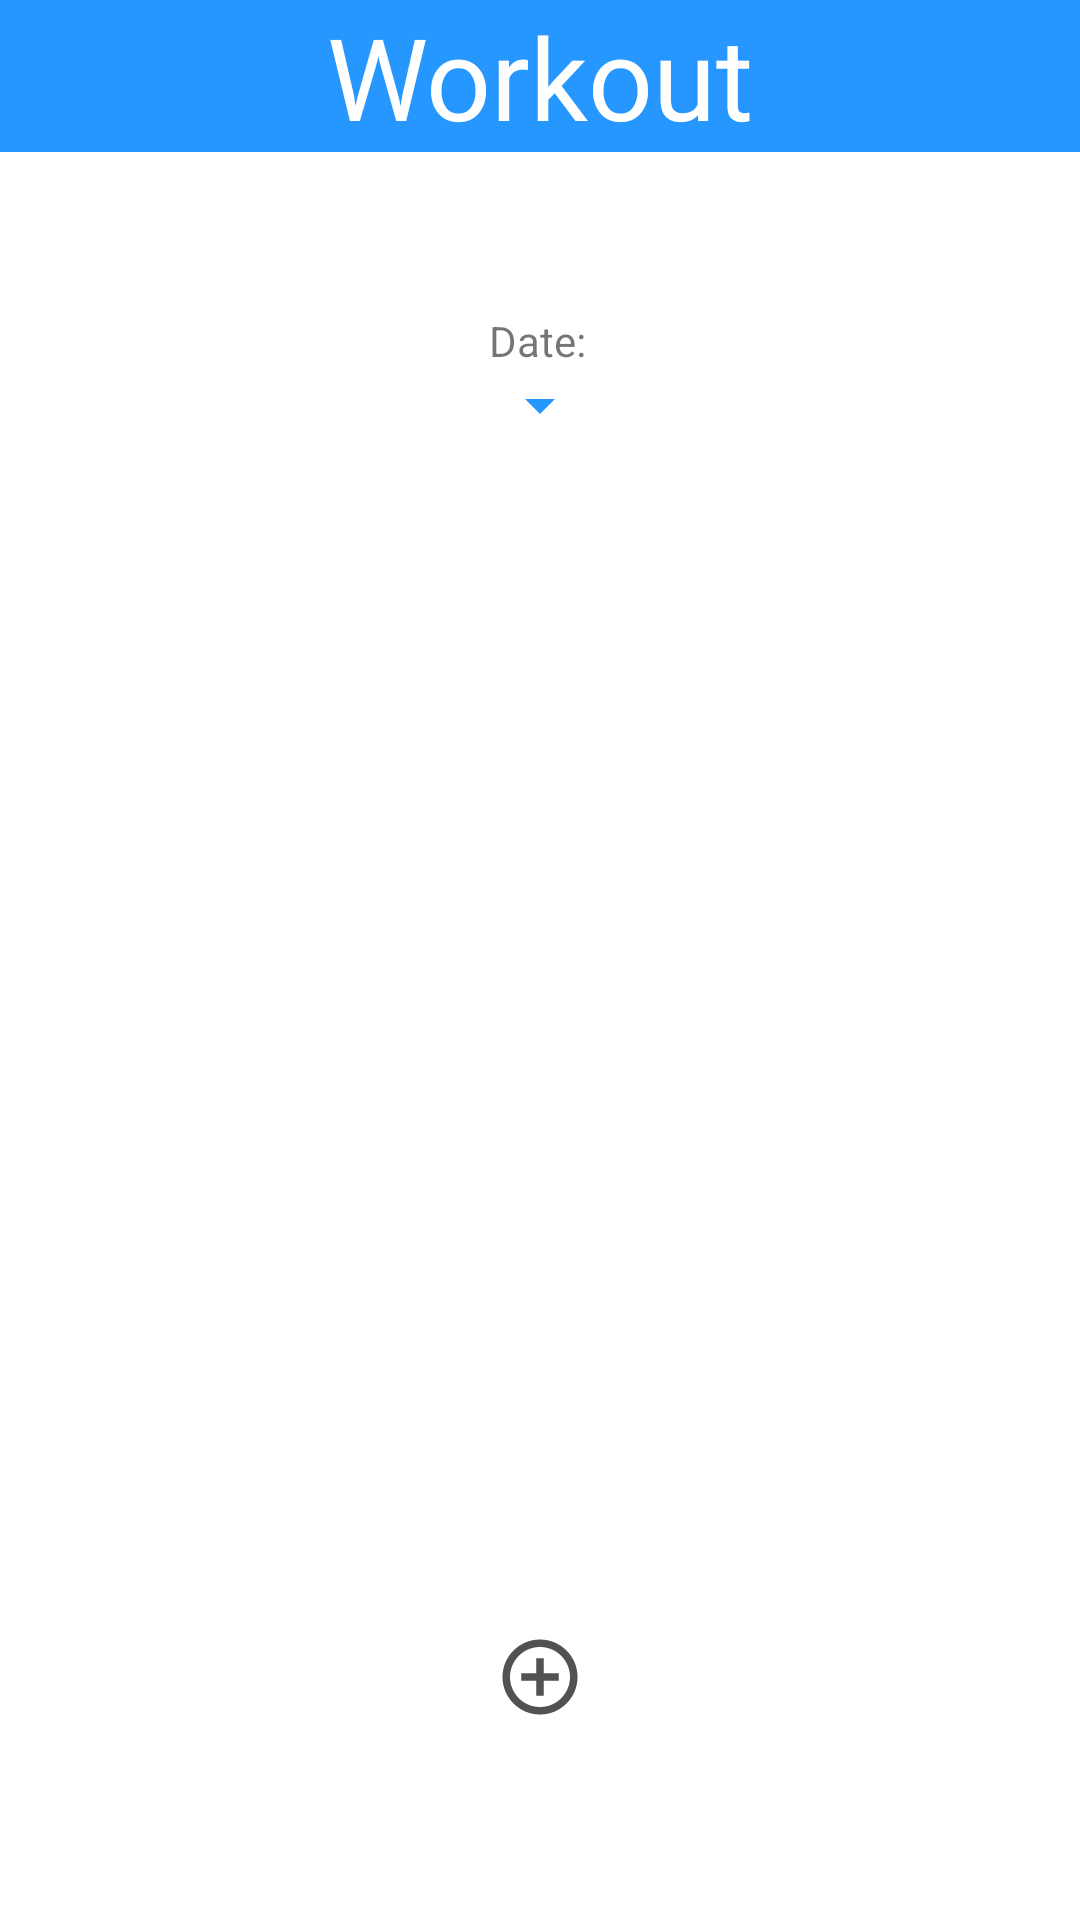

Locate icon controls on the screen. Image size 1080x1920, boxes as (x1, y1, x2, y2).
plus circle: (502, 1639, 578, 1715)
